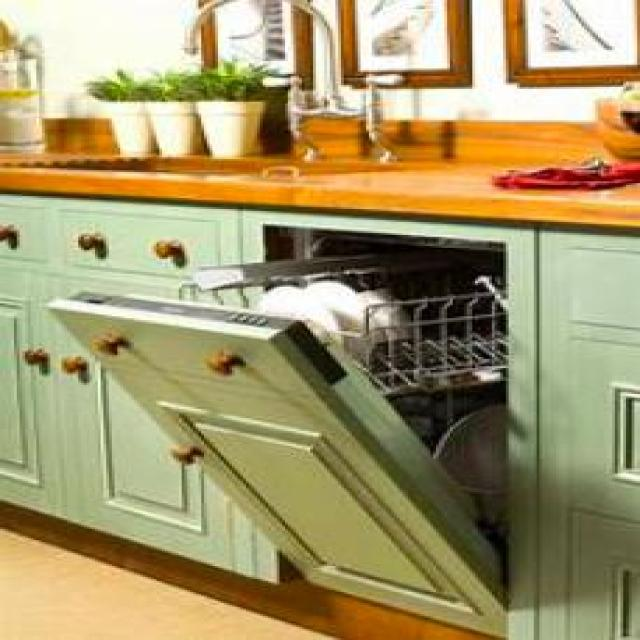dishwasher: (42, 226, 517, 625)
